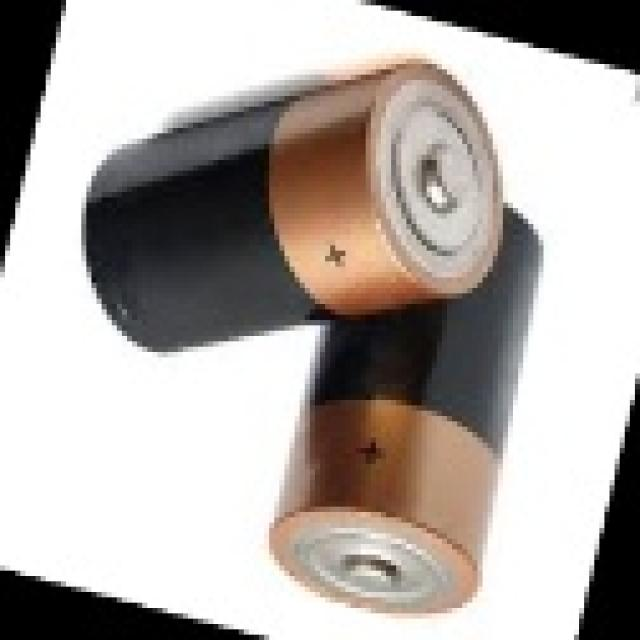elektronik: (83, 61, 506, 352), (270, 226, 528, 618)
